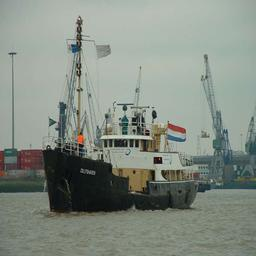Ship: (42, 59, 205, 217)
